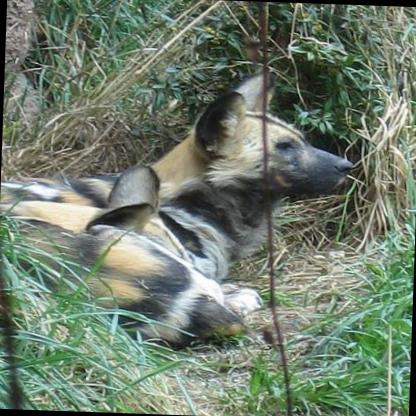African_hunting_dog: (0, 57, 360, 363), (0, 158, 268, 348)
